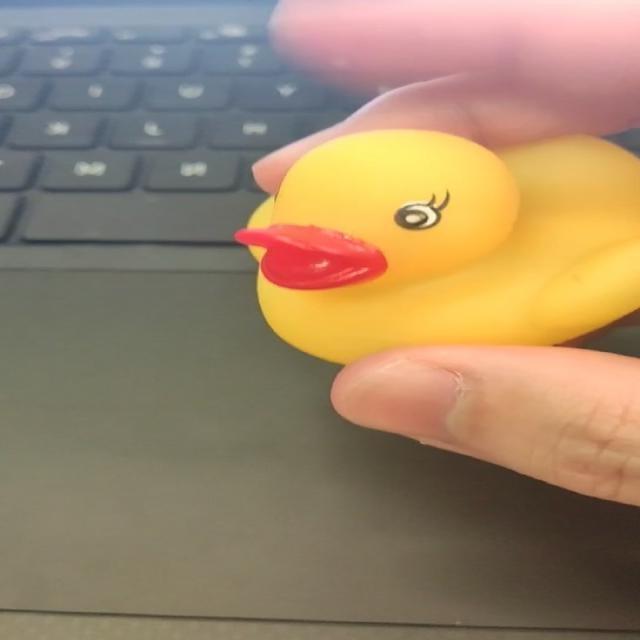rubber-duck: (234, 128, 638, 361)
